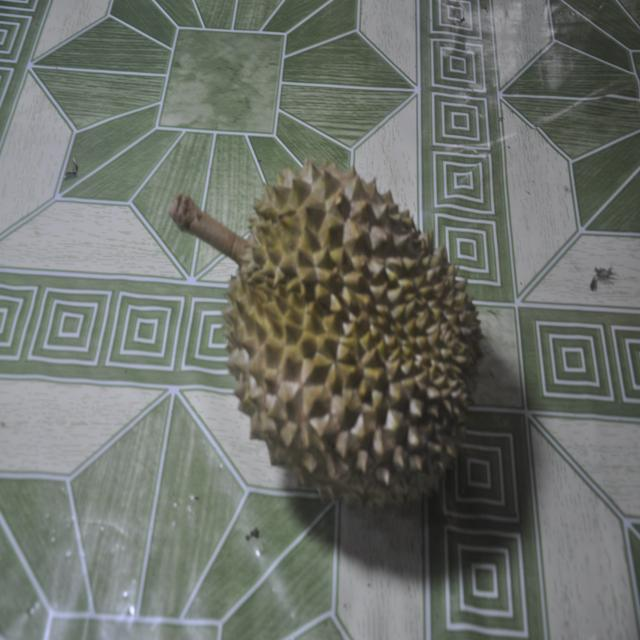mature: (169, 161, 481, 510)
